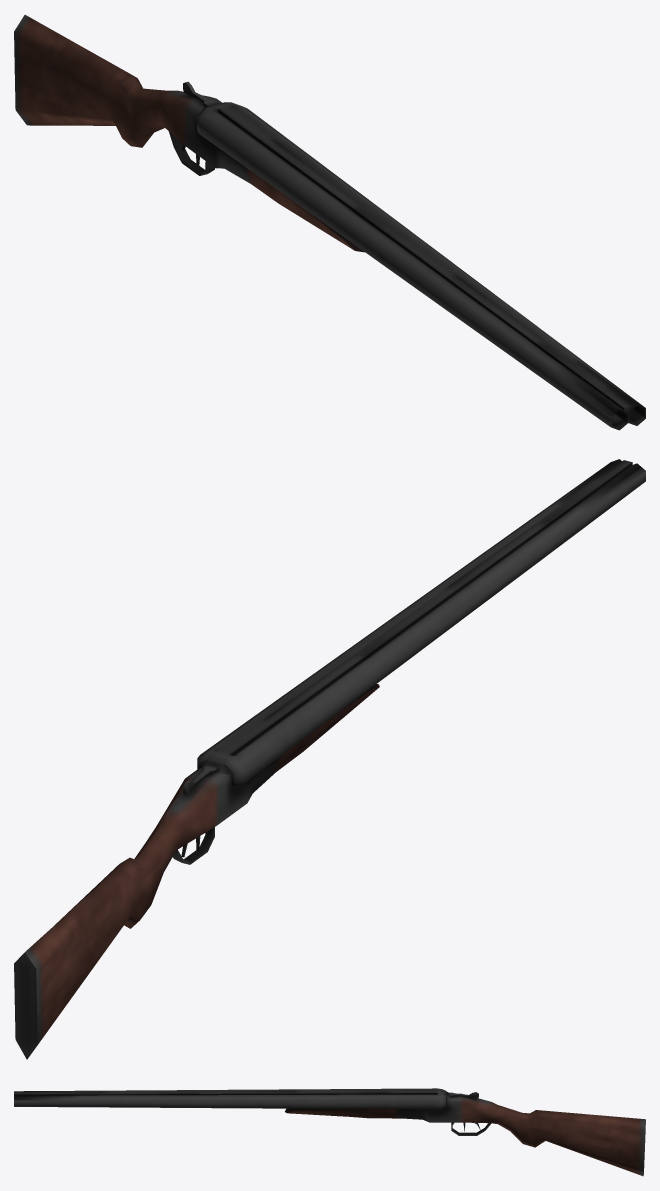
The model's file is DoubleBarrel.fbx.
The picture shows the model from 3 angles, top to bottom: view 1: azimuth 30°, elevation 25°; view 2: azimuth 150°, elevation 25°; view 3: azimuth 270°, elevation 25°; orthographic projection. The views are drawn at different scales.
Parts seen in each view (by area): view 1: DoubleBarrel; view 2: DoubleBarrel; view 3: DoubleBarrel.
Part boxes in pixels (x1,y1,x2,y2): DoubleBarrel: [14, 15, 645, 430]; DoubleBarrel: [14, 459, 645, 1059]; DoubleBarrel: [14, 1088, 645, 1176].
Size of the model in its own units: 5.97 by 19.44 by 131.
Materials: 1 (1 with a texture image).
